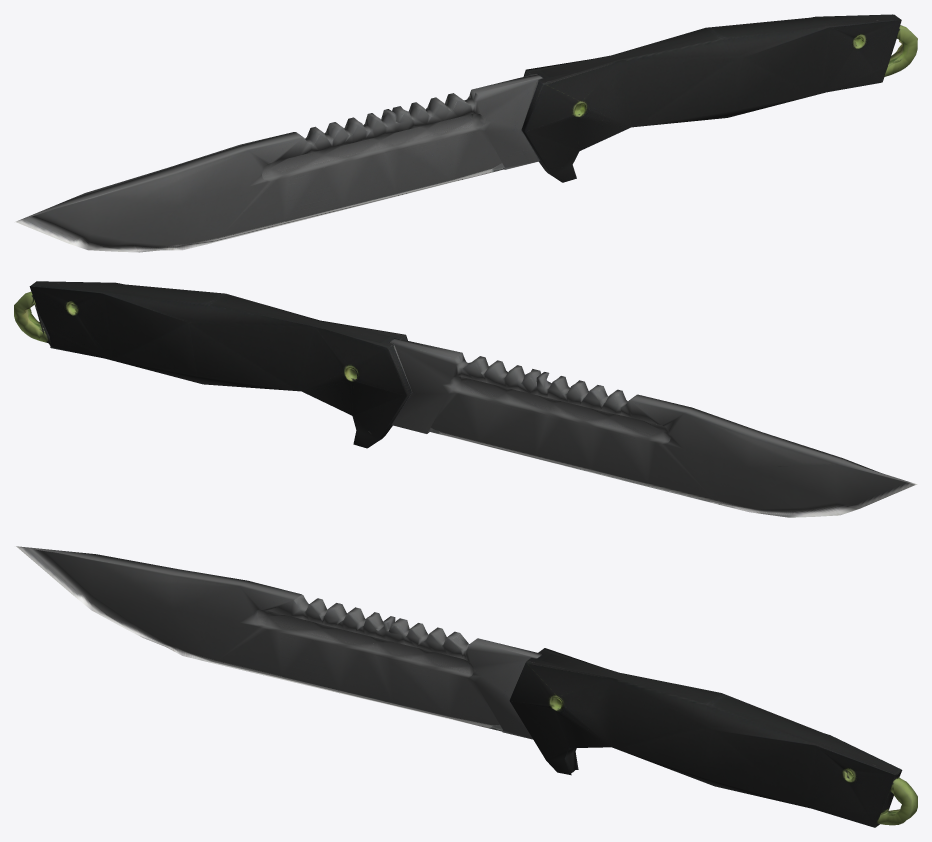
Rendered from ml_talon.glb.
3 renders of one model, top to bottom at view 1: azimuth 30°, elevation 25°; view 2: azimuth 150°, elevation 25°; view 3: azimuth 330°, elevation 25°, orthographic.
Bounding box in the file's own units: 0.9541 × 0.1128 × 0.0542.
Materials: 1 (1 with a texture image).
